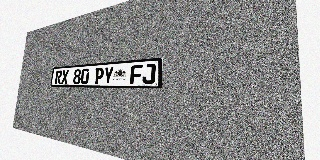plate: (50, 57, 163, 88)
